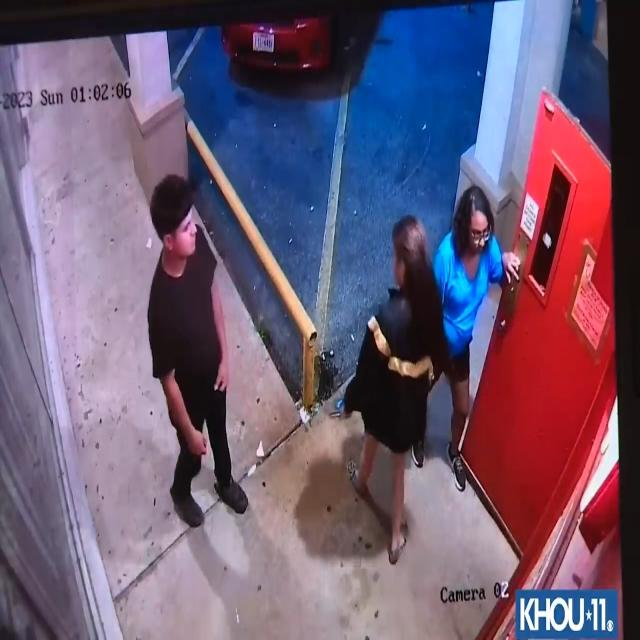Person: (136, 158, 249, 517), (337, 210, 436, 581), (432, 169, 516, 498)
